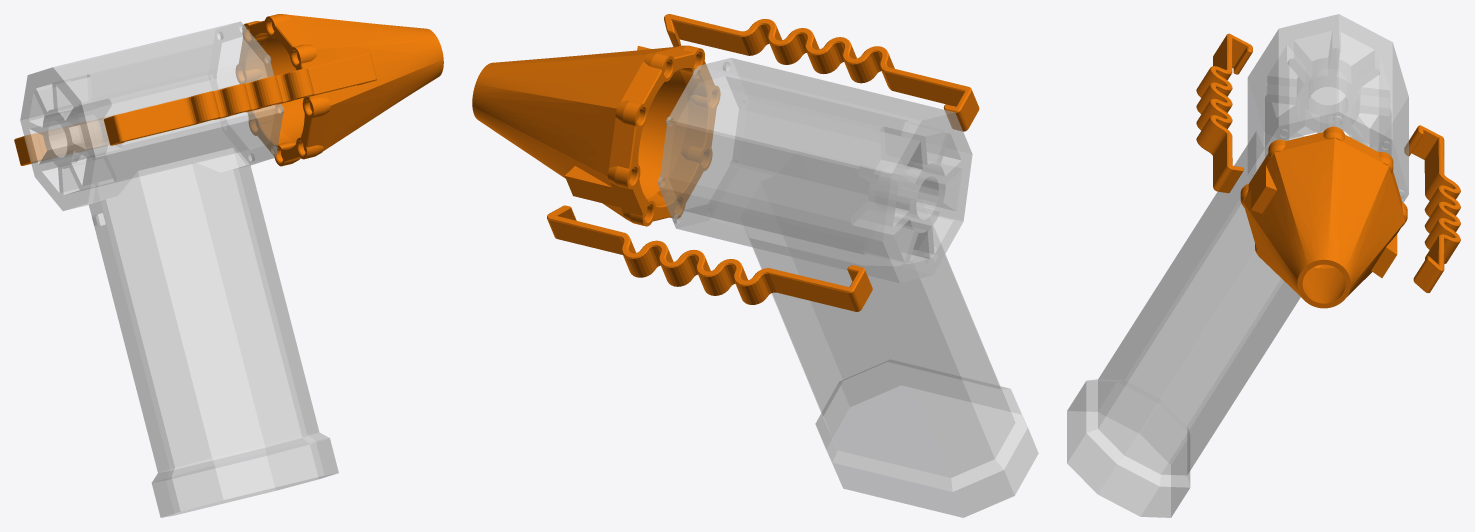
The model's file is JetFanNozzle.glb.
3 renders of one model, left to right at view 1: azimuth 30°, elevation 25°; view 2: azimuth 150°, elevation 25°; view 3: azimuth 270°, elevation 25°, orthographic. The views are drawn at different scales.
Visible parts, largest first — view 1: HandheldBlower.001, Nozzle_10mm.001, Clip_Springy.002, Clip_Springy.003; view 2: HandheldBlower.001, Nozzle_10mm.001, Clip_Springy.003, Clip_Springy.002; view 3: HandheldBlower.001, Nozzle_10mm.001, Clip_Springy.003, Clip_Springy.002.
Part boxes in pixels (bbox=[...]): HandheldBlower.001: bbox=[20, 21, 338, 517]; Nozzle_10mm.001: bbox=[236, 14, 443, 166]; Clip_Springy.002: bbox=[103, 53, 376, 145]; Clip_Springy.003: bbox=[14, 86, 229, 165]; HandheldBlower.001: bbox=[658, 58, 1038, 517]; Nozzle_10mm.001: bbox=[472, 45, 720, 226]; Clip_Springy.003: bbox=[547, 205, 872, 311]; Clip_Springy.002: bbox=[664, 14, 979, 131]; HandheldBlower.001: bbox=[1067, 14, 1408, 517]; Nozzle_10mm.001: bbox=[1240, 126, 1407, 308]; Clip_Springy.003: bbox=[1404, 125, 1460, 292]; Clip_Springy.002: bbox=[1196, 33, 1252, 193].
Bounding box in the file's own units: 107 × 110 × 91.77.
